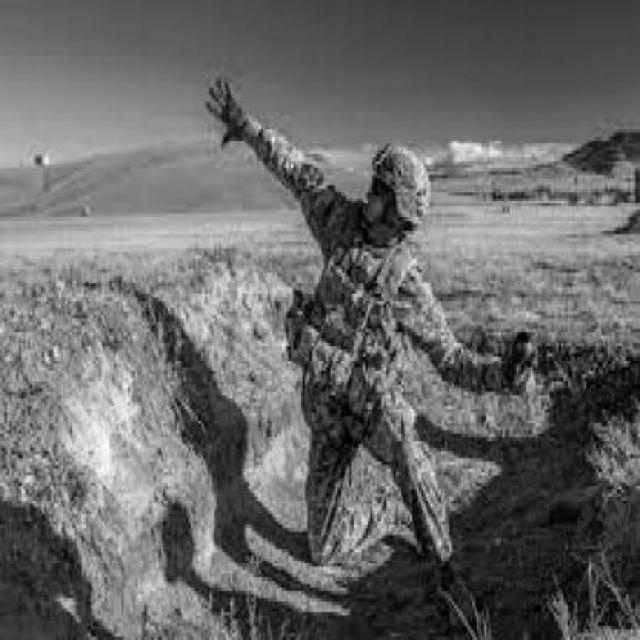Person: (203, 70, 537, 632)
